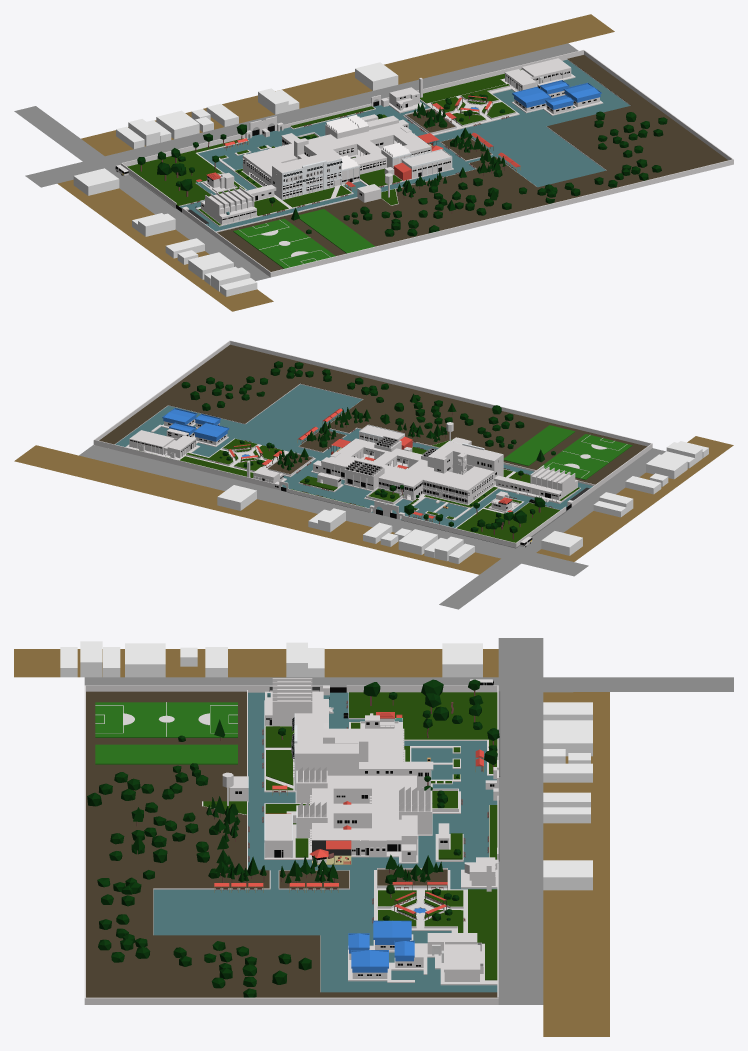
The model's file is ReadyVersion.glb.
3 renders of one model, top to bottom at view 1: azimuth 30°, elevation 25°; view 2: azimuth 150°, elevation 25°; view 3: azimuth 270°, elevation 25°, orthographic. The views are drawn at different scales.
Parts seen in each view (by area): view 1: Cube.504, Cube.028, Cube.145, Plane, Cylinder.012, Cube, Plane.056; view 2: Cube.504, Cube.028, Cube.145, Plane, Cylinder.012, Plane.056, Cube; view 3: Cube.504, Cube.028, Plane, Cube.145, Cylinder.012, Cube, Plane.056.
Boxes of the visible parts, <box> form: Cube.504: <box>14,14,629,311</box>; Cube.028: <box>127,55,727,271</box>; Cube.145: <box>121,50,733,277</box>; Plane: <box>195,114,453,226</box>; Cylinder.012: <box>137,94,667,236</box>; Cube: <box>115,91,520,225</box>; Plane.056: <box>201,70,596,220</box>; Cube.504: <box>14,384,733,609</box>; Cube.028: <box>99,344,647,542</box>; Cube.145: <box>93,340,652,548</box>; Plane: <box>298,424,580,520</box>; Cylinder.012: <box>181,361,555,539</box>; Plane.056: <box>130,420,560,512</box>; Cube: <box>215,408,589,547</box>; Cube.504: <box>14,638,733,1036</box>; Cube.028: <box>86,691,497,997</box>; Plane: <box>229,678,463,863</box>; Cube.145: <box>84,685,500,1004</box>; Cylinder.012: <box>87,679,499,997</box>; Cube: <box>214,679,493,923</box>; Plane.056: <box>235,718,494,975</box>.
Size of the model in its own units: 6.86 by 0.3662 by 5.23.
